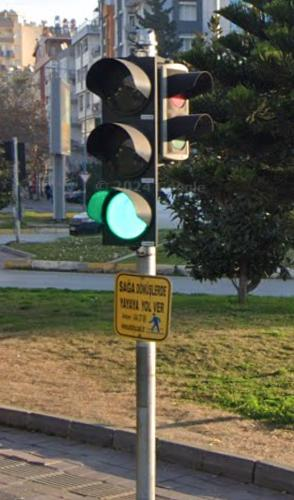greenlight: (83, 61, 163, 245)
